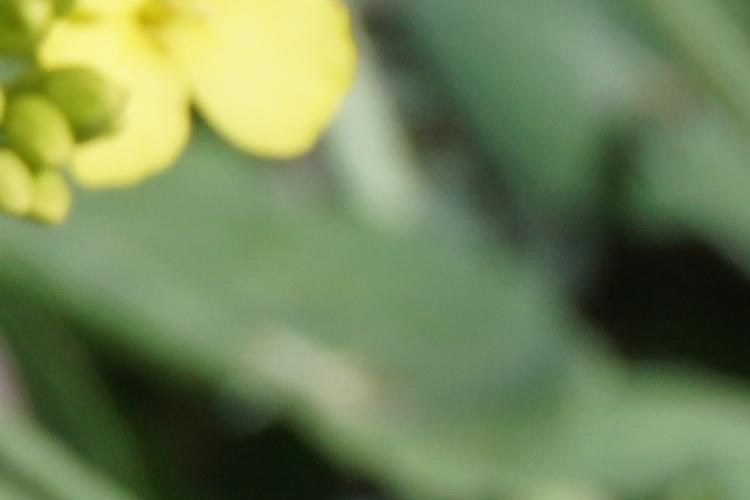bud: (33, 67, 141, 143), (11, 96, 73, 184)
yellow: (32, 7, 363, 185)
